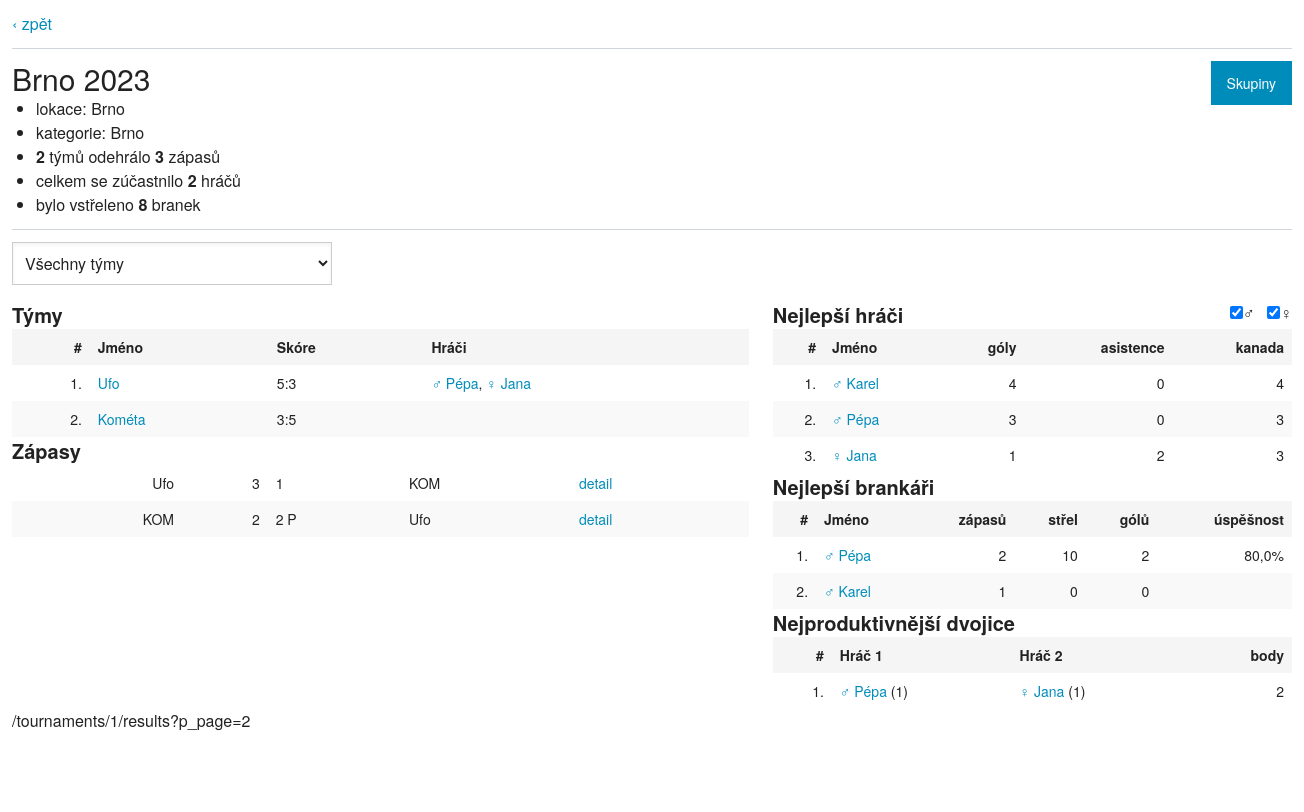
team filter navigates to TOT pk and filters by pk
The image size is (1304, 812).
Expected: the heading "Brno 2023" is shown, [12,57,150,100]
Select "Kométa" in the dropdown named "Tým" at (172, 264), box [12,242,332,285]
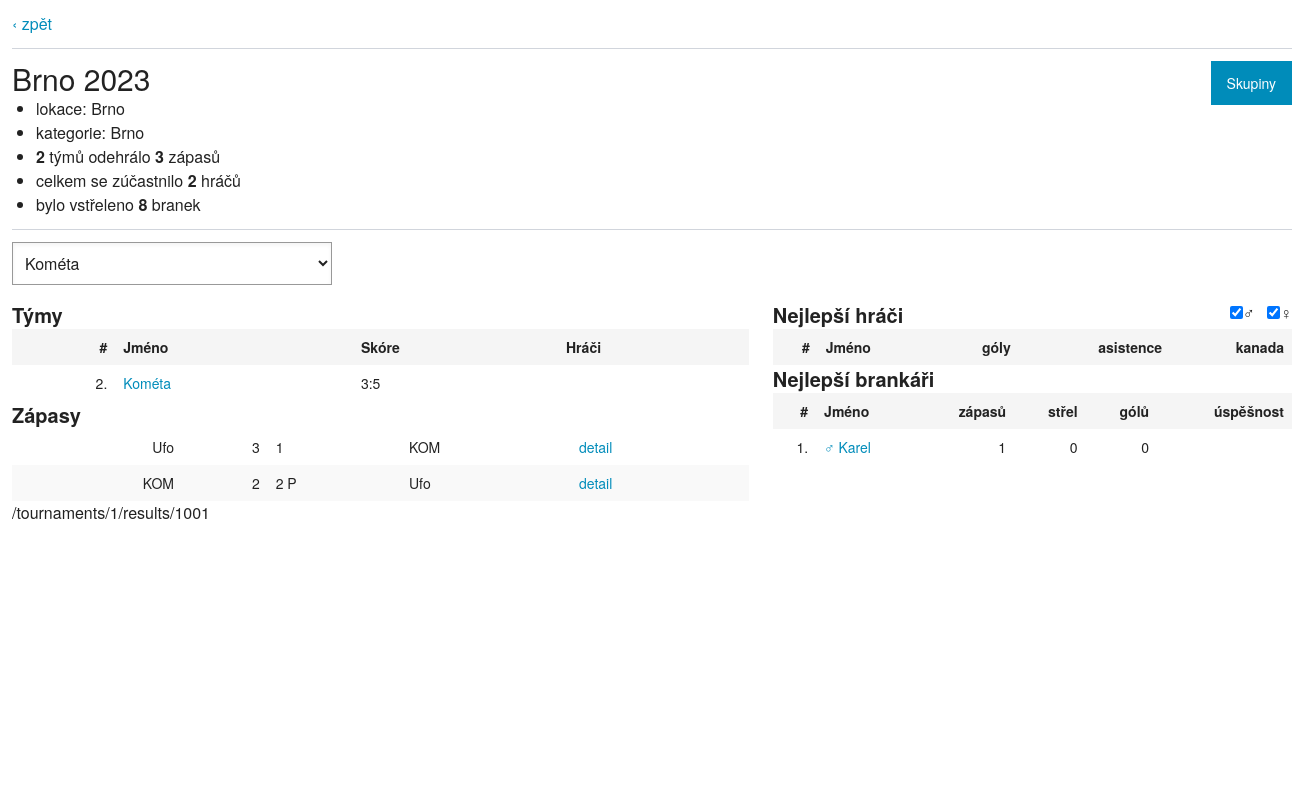
Now the text with test id "loc" reads "/tournaments/1/results/1001", box [12,501,210,524]
Now the text with test id "loc" no longer shows "p_page", box [12,501,210,524]
Now the link "Pépa" is gone
